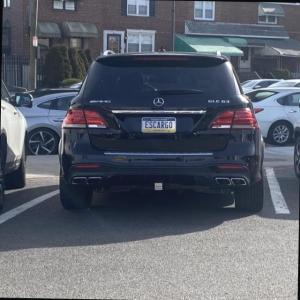Plate: (141, 117, 176, 132)
